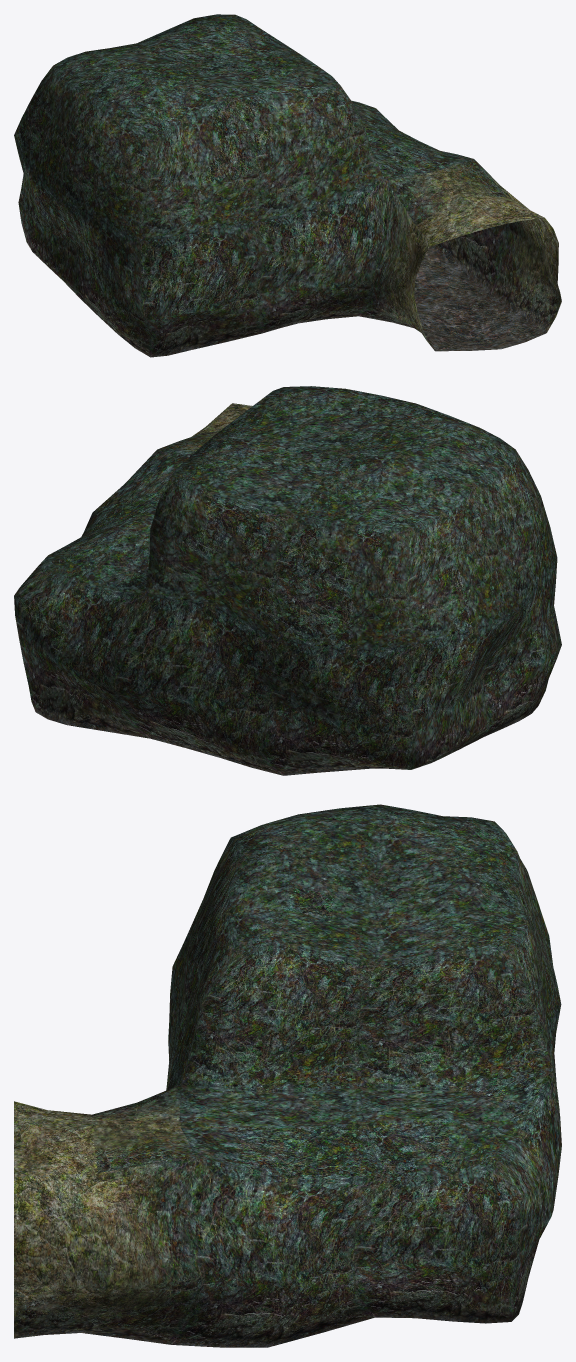
Rendered from thm_all_cave_flatland_s02_damprock_r11_mesh_r11.fbx.
3 views of the same model, one above another, from view 1: azimuth 30°, elevation 25°; view 2: azimuth 150°, elevation 25°; view 3: azimuth 270°, elevation 25° (orthographic). The views are drawn at different scales.
Visible parts, largest first — view 1: mesh_node; view 2: mesh_node; view 3: mesh_node.
Part boxes in pixels (bbox=[...]): mesh_node: bbox=[14, 14, 561, 357]; mesh_node: bbox=[14, 386, 561, 775]; mesh_node: bbox=[14, 804, 561, 1347].
Bounding box in the file's own units: 32.88 × 20.28 × 28.87.
